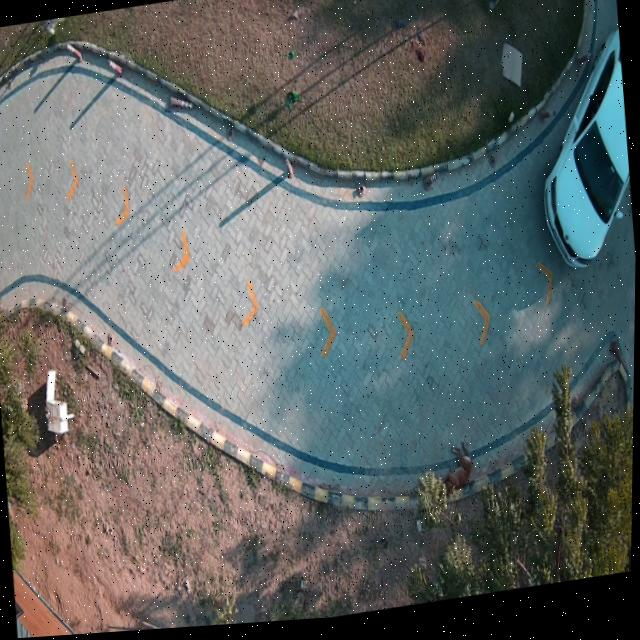car: (545, 38, 630, 276)
